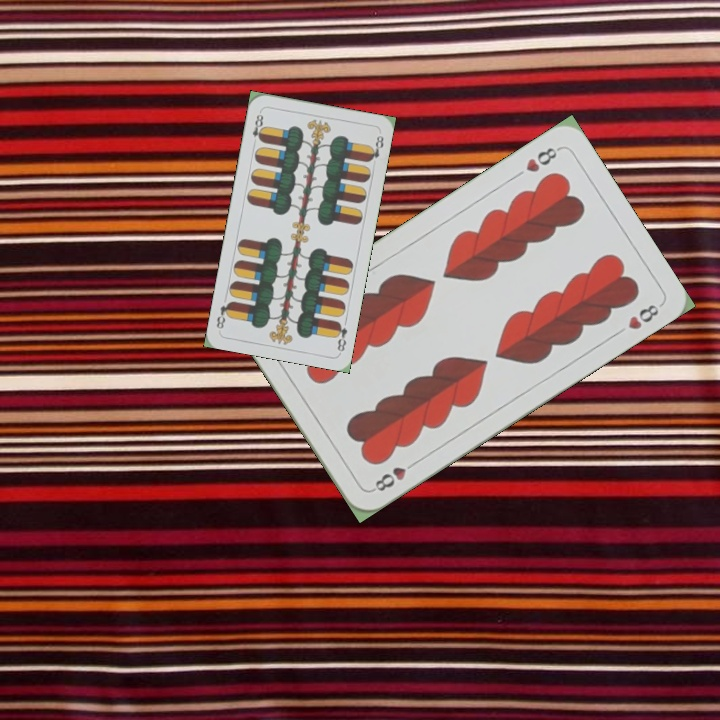E8: (248, 107, 267, 144), (331, 318, 350, 354)
H8: (368, 456, 420, 494), (521, 143, 563, 175)
